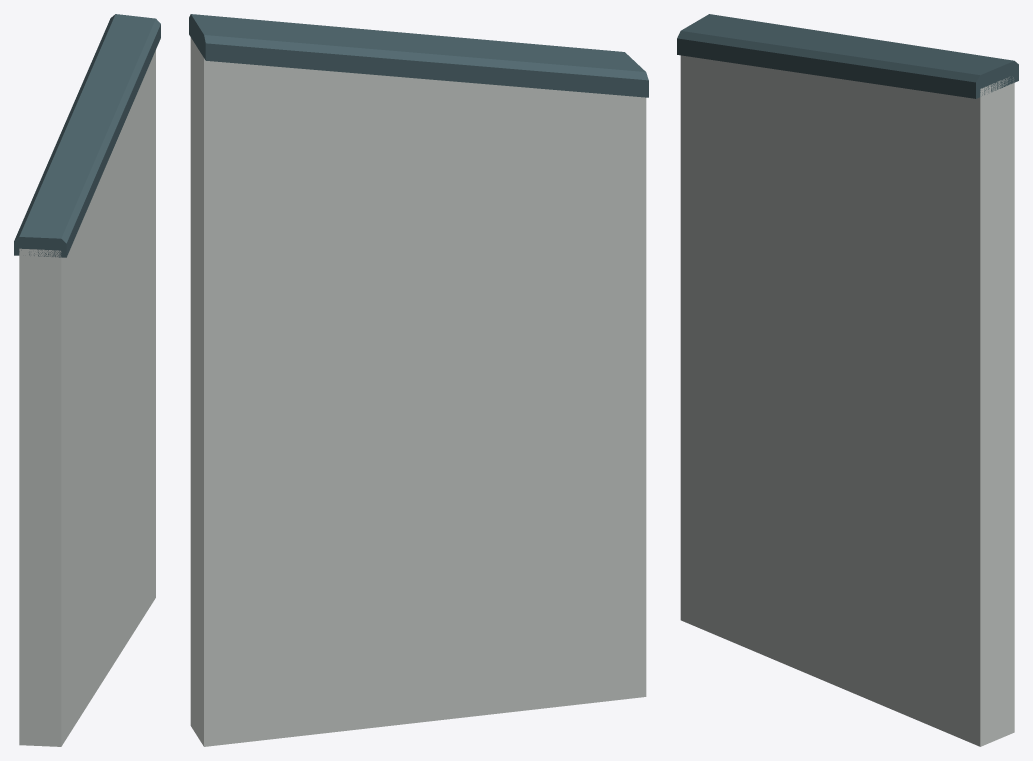
Rendered from halfwall_45_port_rise_3_miter_8219_-5924_7071_-7071.glb.
3 renders of one model, left to right at view 1: azimuth 30°, elevation 25°; view 2: azimuth 150°, elevation 25°; view 3: azimuth 270°, elevation 25°, orthographic. The views are drawn at different scales.
Visible parts, largest first — view 1: Seamless solid halfwall.084, Seamless top cap.084; view 2: Seamless solid halfwall.084, Seamless top cap.084; view 3: Seamless solid halfwall.084, Seamless top cap.084.
Boxes of the visible parts, box(x1,y1,x2,y2) form: Seamless solid halfwall.084: box(19, 50, 155, 746); Seamless top cap.084: box(14, 14, 160, 257); Seamless solid halfwall.084: box(190, 37, 646, 746); Seamless top cap.084: box(189, 14, 648, 97); Seamless solid halfwall.084: box(680, 55, 1014, 746); Seamless top cap.084: box(677, 14, 1018, 98).
Size of the model in its own units: 0.5764 by 1.23 by 0.565.
